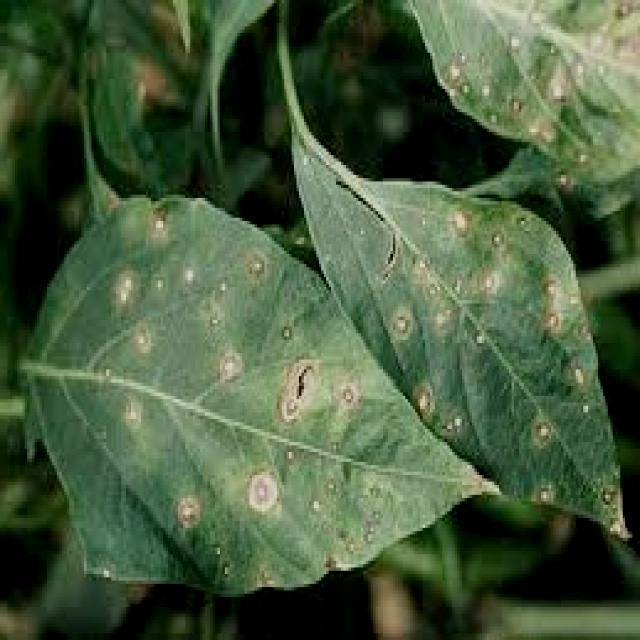Bercak Daun Serkospora: (25, 188, 497, 593), (290, 120, 632, 544)
